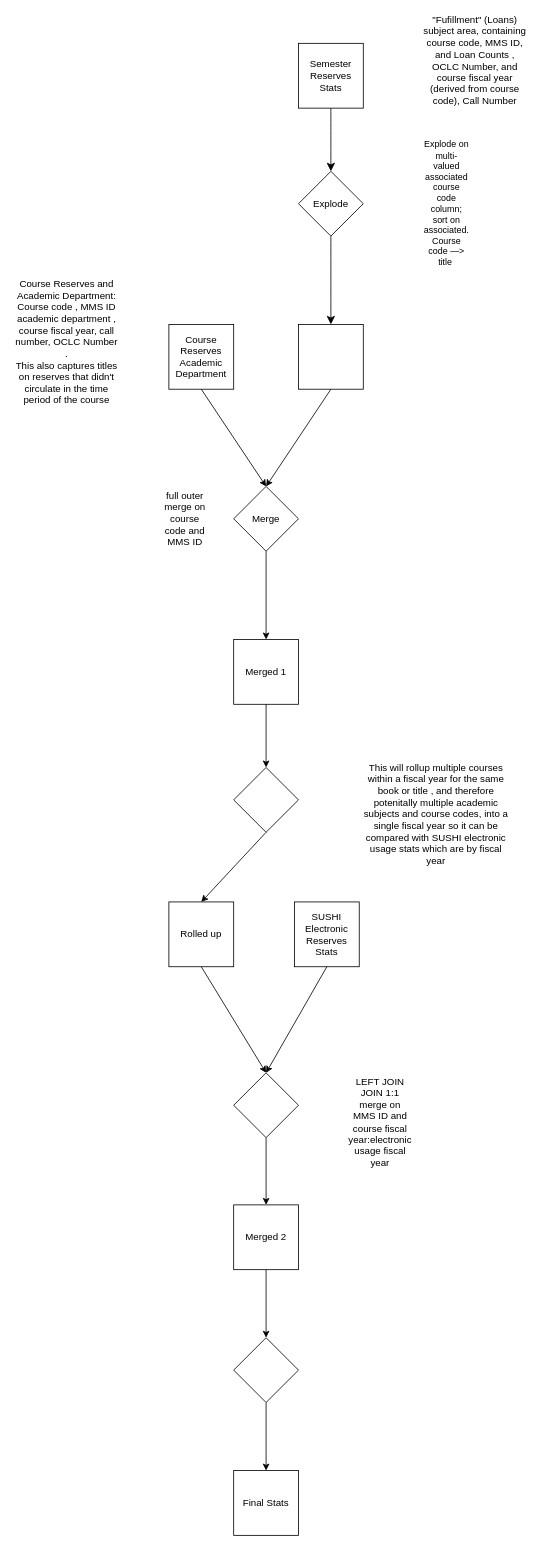
This 541x1550 diagram has some shape labels left out. The shapes that lost their labels are listed below. From the top down, each one's centre as x and y in pixels, then its label:
At point 330,356: "Exploded Semester Reserves stats".
At point 265,799: "Rollup by fiscal year".
At point 265,1105: "Merge 2".
At point 265,1370: "Get Dewey from OCLC".
